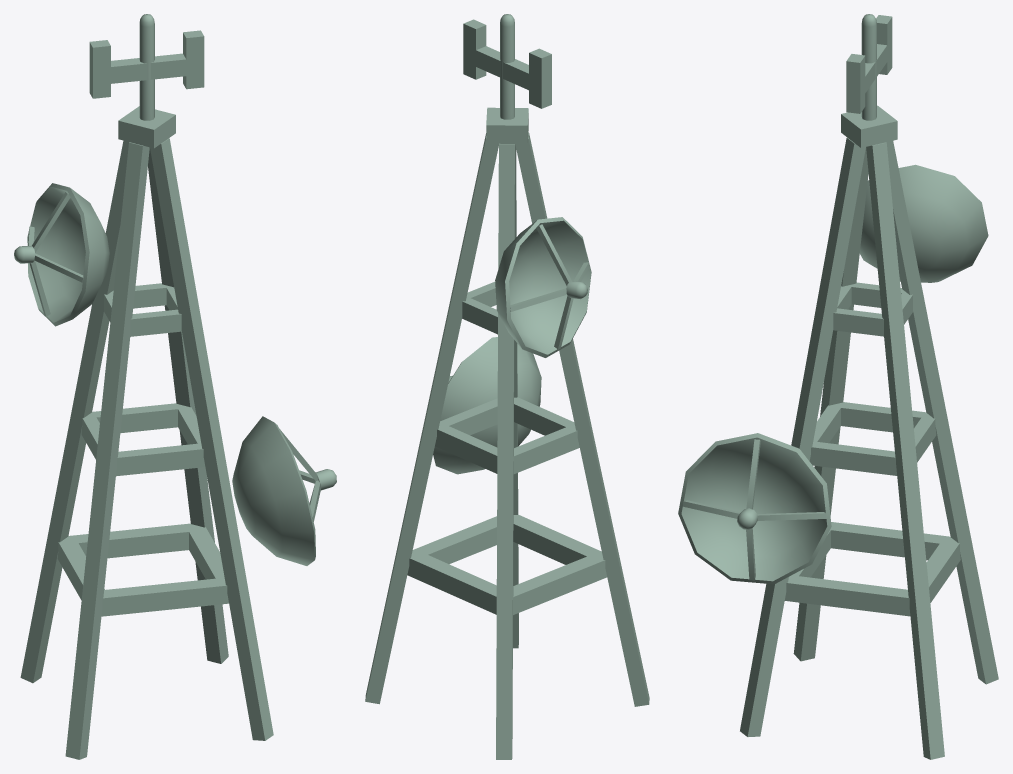
Rendered from roofAsset2.fbx.
The picture shows the model from 3 angles, left to right: view 1: azimuth 30°, elevation 25°; view 2: azimuth 150°, elevation 25°; view 3: azimuth 270°, elevation 25°; orthographic projection.
Parts seen in each view (by area): view 1: roofAsset2; view 2: roofAsset2; view 3: roofAsset2.
Boxes of the visible parts, <box> form: roofAsset2: <box>14,14,336,759</box>; roofAsset2: <box>365,14,649,759</box>; roofAsset2: <box>678,14,998,759</box>.
Bounding box in the file's own units: 942 × 2609 × 1095.
